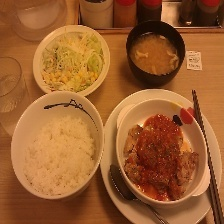rice: (20, 107, 96, 197)
